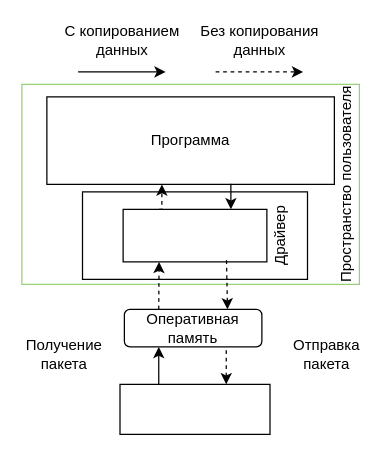
The diagram is 385 pixels wide and 456 high, and some of its shapes have lost their labels. Here are the shapes that lost their labels. From the top down, the centre of each, then its label:
At pixel 194 235: "RX/TX кольца".
At pixel 194 408: "Сетевая карта".
